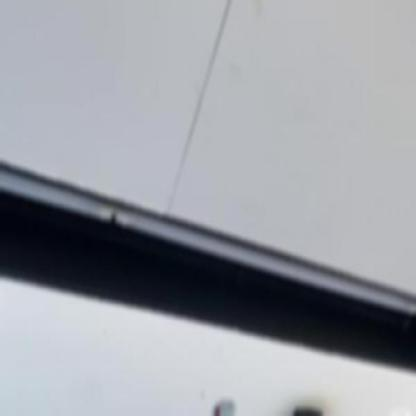light_off: (0, 107, 415, 350)
